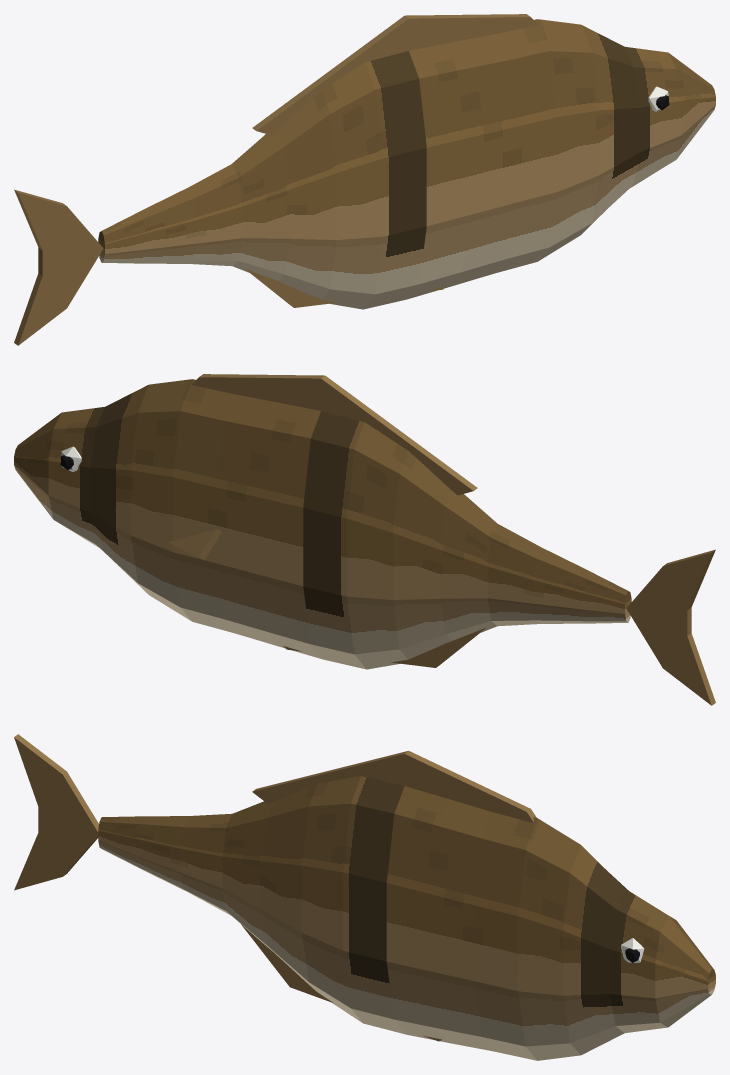
File: sea_carp.glb
3 views of the same model, one above another, from view 1: azimuth 30°, elevation 25°; view 2: azimuth 150°, elevation 25°; view 3: azimuth 330°, elevation 25° (orthographic).
Parts seen in each view (by area): view 1: fish_sea_carp; view 2: fish_sea_carp; view 3: fish_sea_carp.
Part boxes in pixels (box(x1,y1,x2,y2)): fish_sea_carp: box(14, 14, 715, 345); fish_sea_carp: box(14, 374, 715, 705); fish_sea_carp: box(14, 734, 715, 1060).
Bounding box in the file's own units: 1.14 × 0.4423 × 0.1417.
Materials: 4 (1 with a texture image).
